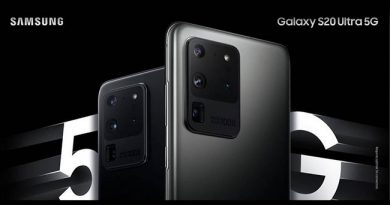phone: (161, 21, 295, 205), (93, 64, 169, 205)
